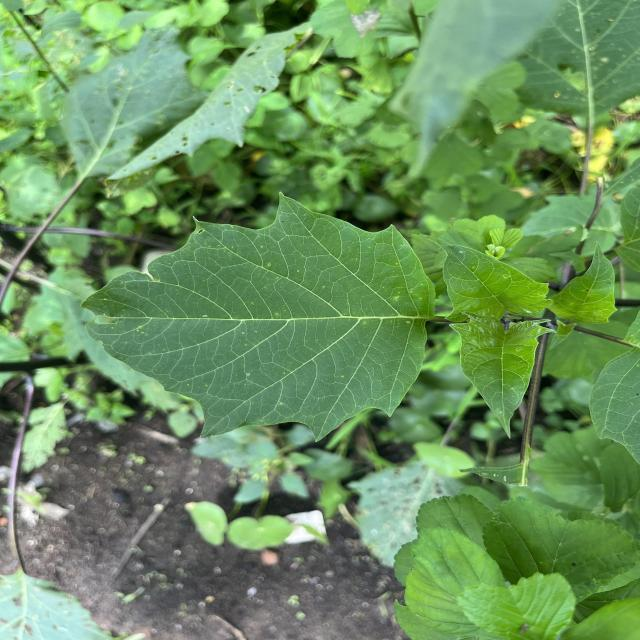Datura metal linn: (76, 185, 441, 447)
